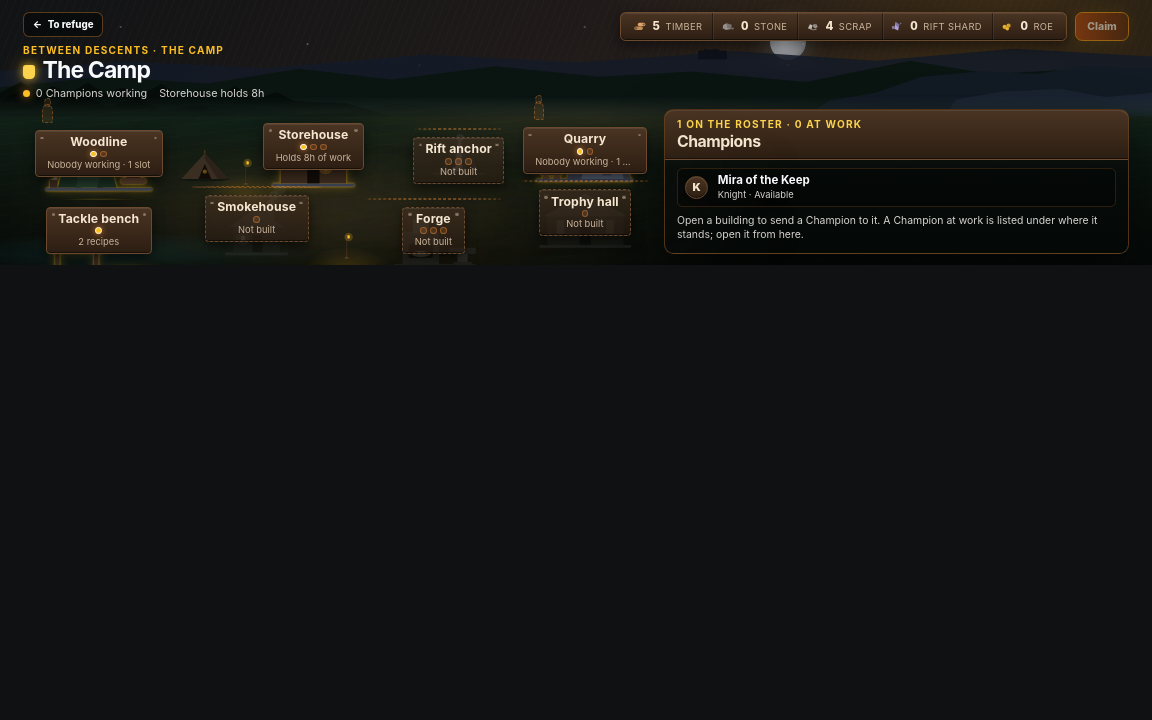
it: CampScreen › crafts at the bench once it is built
The width and height of the screenshot is (1152, 720).
Click the button "Tackle bench 2 recipes".
click(99, 222)  # box 23,190 -> 174,254
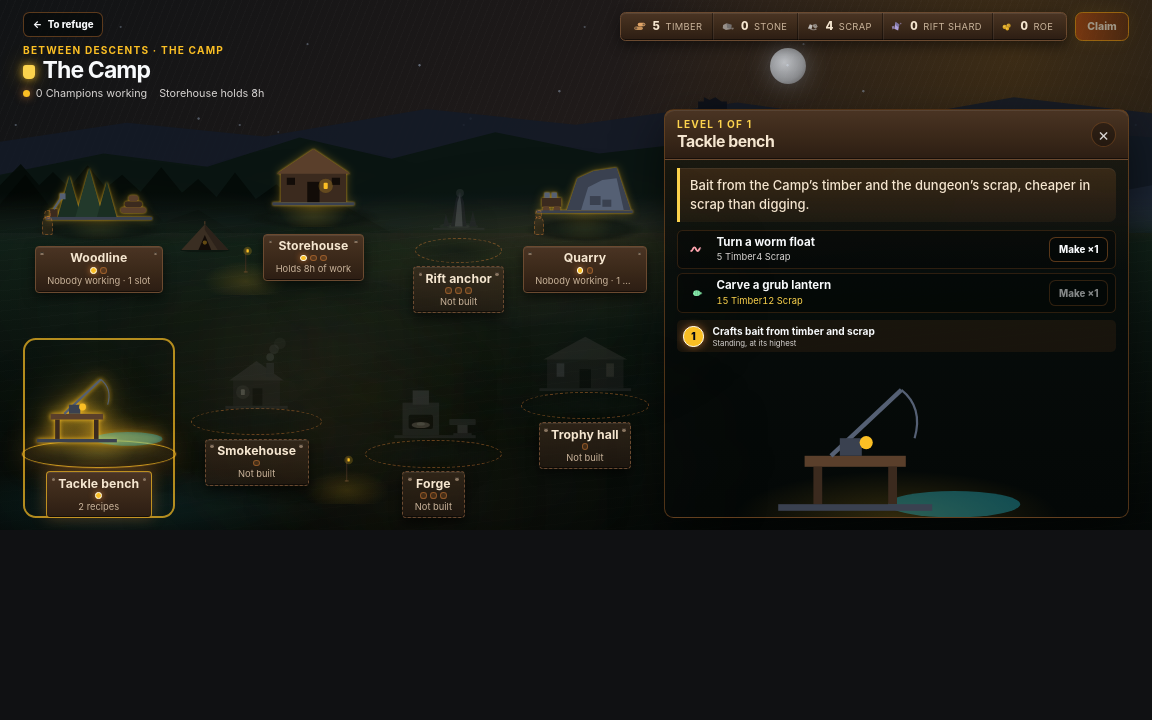
Now the heading "Tackle bench" is shown, box 677,132 -> 774,151
Now the button with aria-label "Turn a worm float: make 1 River Worm" is enabled
Now the button with aria-label "Carve a grub lantern" is disabled, box 1049,280 -> 1108,306
Click the button with aria-label "Turn a worm float: make 1 River Worm".
click(1079, 249)  # box 1049,236 -> 1108,262
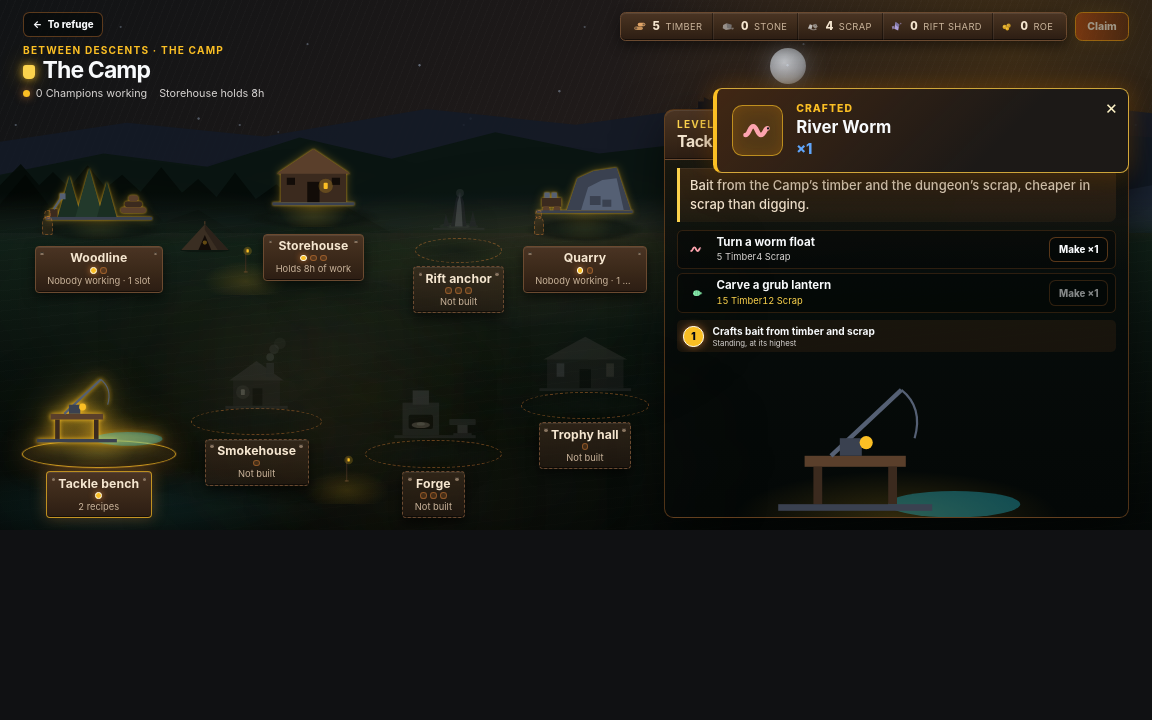
Now the text "Crafted" is shown, box 796,102 -> 853,115
